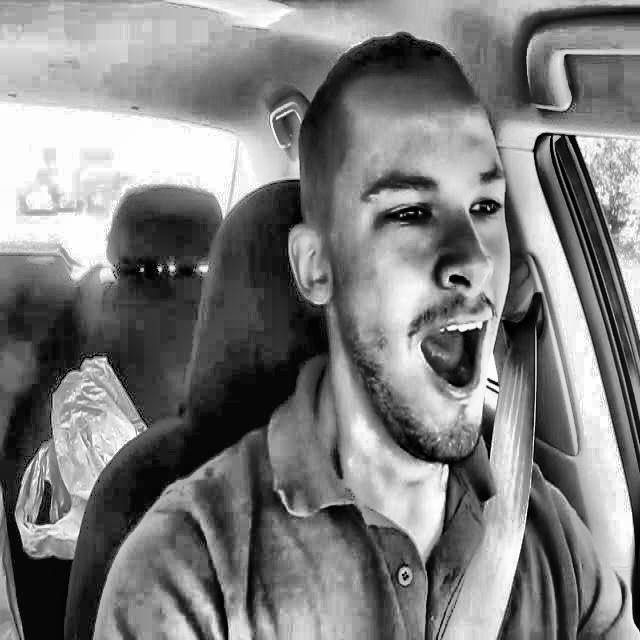open_eyes: (371, 189, 440, 239), (456, 187, 512, 230)
open_mouth: (398, 293, 498, 415)
